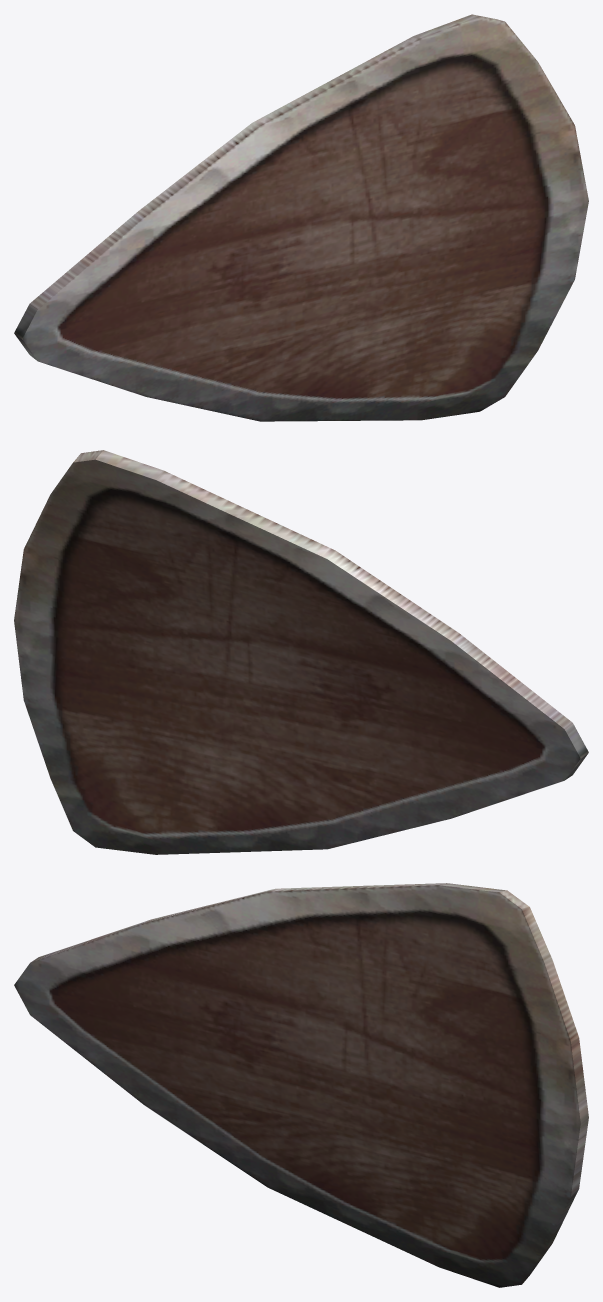
The picture shows the model from 3 angles, top to bottom: view 1: azimuth 30°, elevation 25°; view 2: azimuth 150°, elevation 25°; view 3: azimuth 330°, elevation 25°; orthographic projection.
Visible parts, largest first — view 1: it11003; view 2: it11003; view 3: it11003.
Part boxes in pixels (bbox=[...]): it11003: bbox=[14, 14, 588, 421]; it11003: bbox=[14, 450, 588, 854]; it11003: bbox=[14, 883, 588, 1287].
Size of the model in its own units: 2.98 by 1.99 by 0.1992.
1 material, 1 textured.
